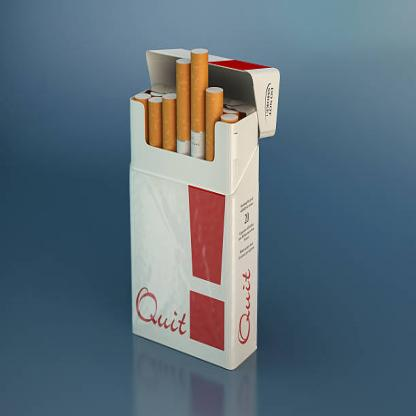bungkus rokok: (120, 38, 284, 373)
